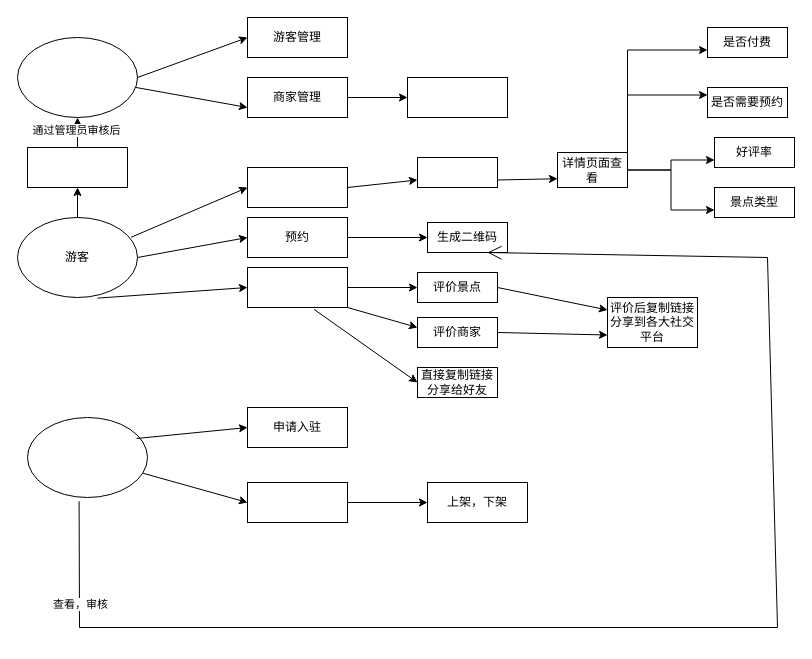
The diagram is 812 pixels wide and 659 high, and some of its shapes have lost their labels. Each missing label, with the centre of its shape:
"商家" belongs at point (87, 457).
"审核" belongs at point (457, 97).
"成为商家" belongs at point (77, 167).
"旅游地点浏览" belongs at point (297, 187).
"景点观看" belongs at point (457, 172).
"管理员" belongs at point (77, 77).
"管理商品" belongs at point (297, 502).
"评价与分享" belongs at point (297, 287).
